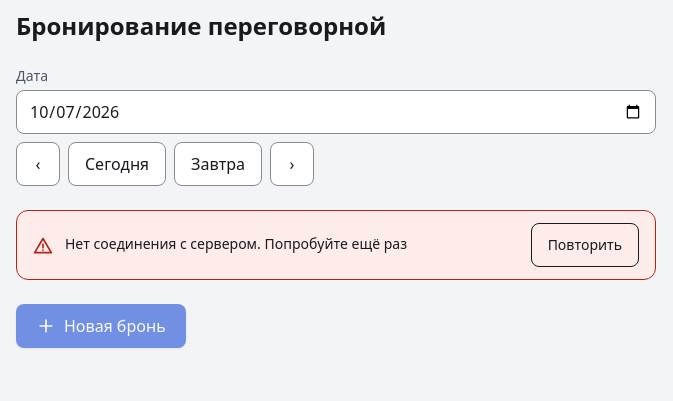
Scenario: BookingPage › shows error banner with API message and retry reloads
The width and height of the screenshot is (673, 401).
Click the button "Повторить" at (585, 245), box [531, 223, 639, 267]
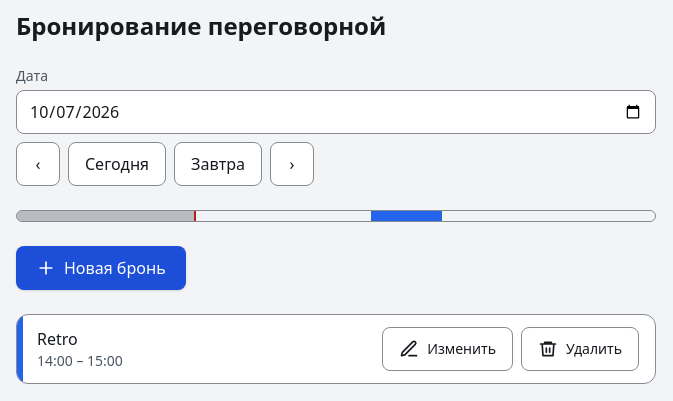
expect the message "Нет соединения с сервером. Попробуйте ещё раз Повторить" is gone: met
expect the text "Retro" is shown: met, box [37, 328, 78, 350]
